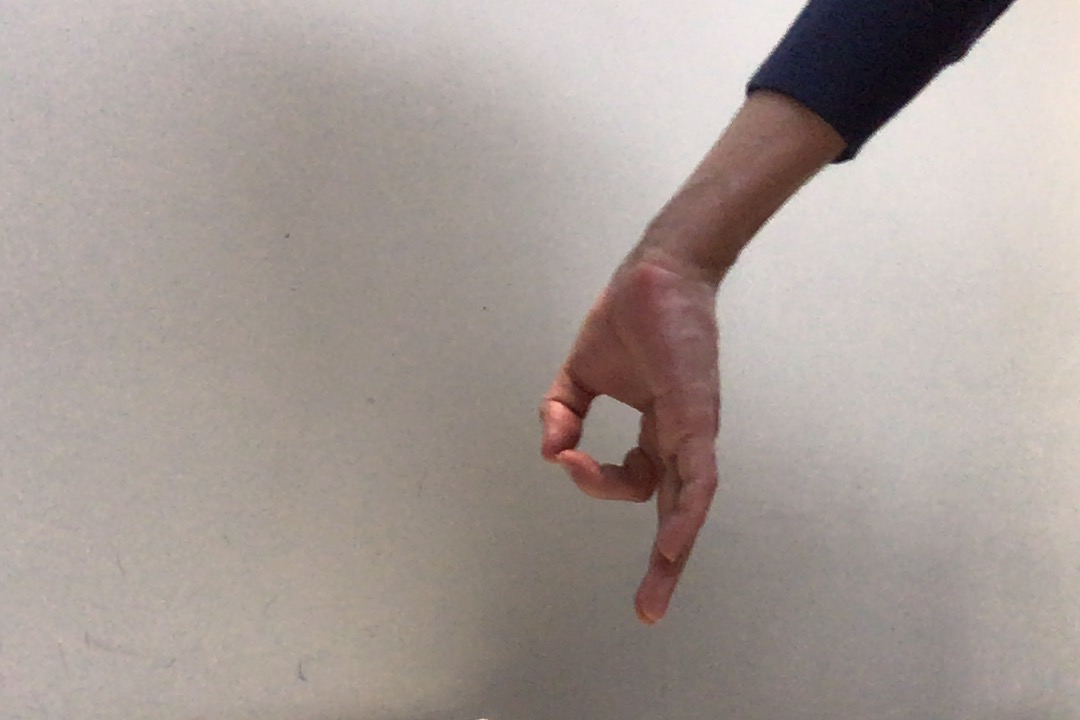oksign: (530, 245, 730, 630)
